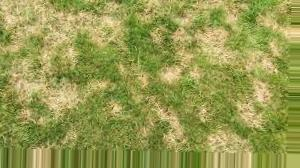patch: (39, 30, 75, 67), (92, 18, 129, 44), (42, 80, 77, 107), (235, 93, 261, 129), (5, 4, 30, 34), (158, 107, 186, 133), (203, 32, 230, 56), (156, 67, 181, 80), (95, 78, 112, 91)
